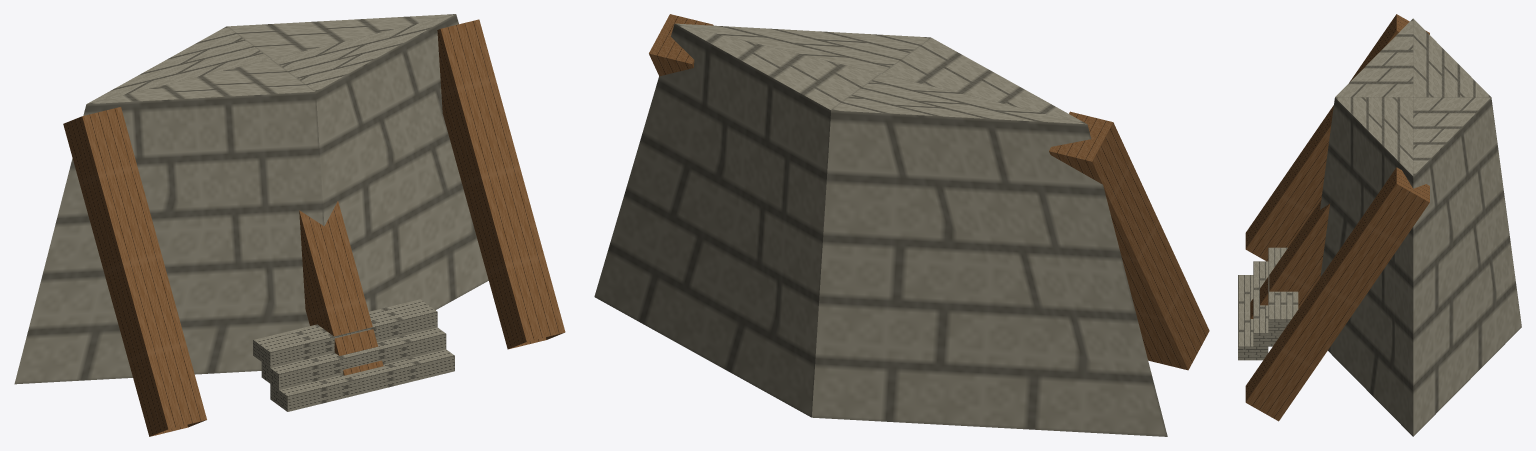
Rendered from military-DAM-1-lod1.glb.
3 views of the same model, side by side, from view 1: azimuth 30°, elevation 25°; view 2: azimuth 150°, elevation 25°; view 3: azimuth 270°, elevation 25° (orthographic). The views are drawn at different scales.
Size of the model in its own units: 0.86 by 0.4372 by 0.47.
1 material, 1 textured.
